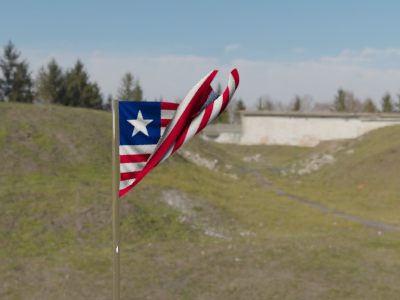Liberia flag: (119, 69, 242, 195)
